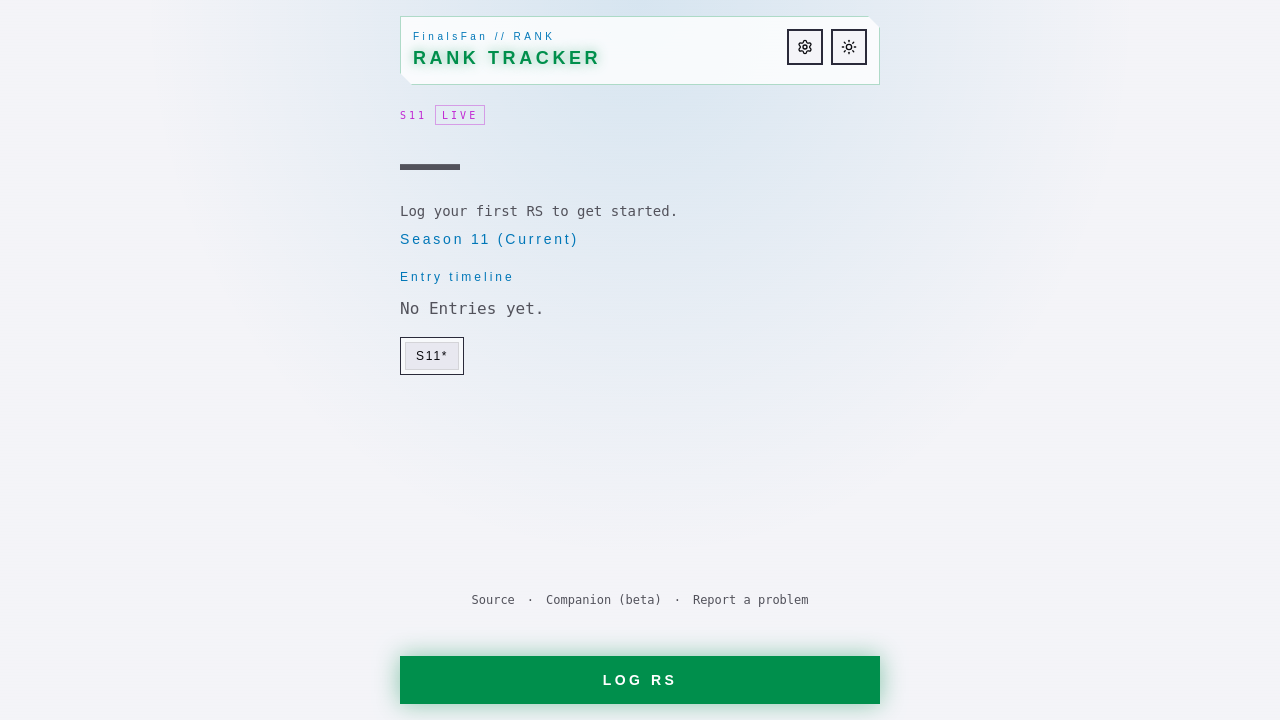
it: restored session shows signed-in state and Sign out in Data sheet
Click the button named "Data": click(805, 47) x1=787 y1=29 x2=823 y2=65
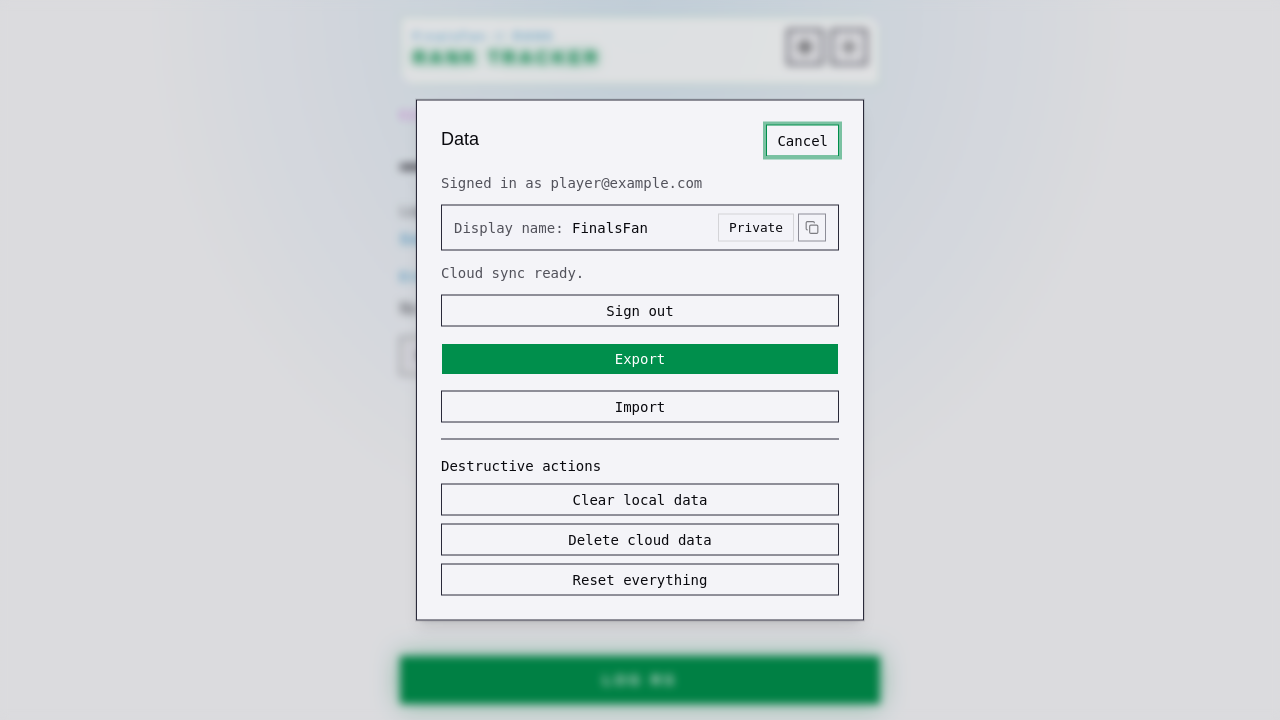
Result: the text "Signed in as player@example.com" is shown at x1=441 y1=174 x2=702 y2=190
Result: the button "Sign out" is shown at x1=441 y1=294 x2=839 y2=326
